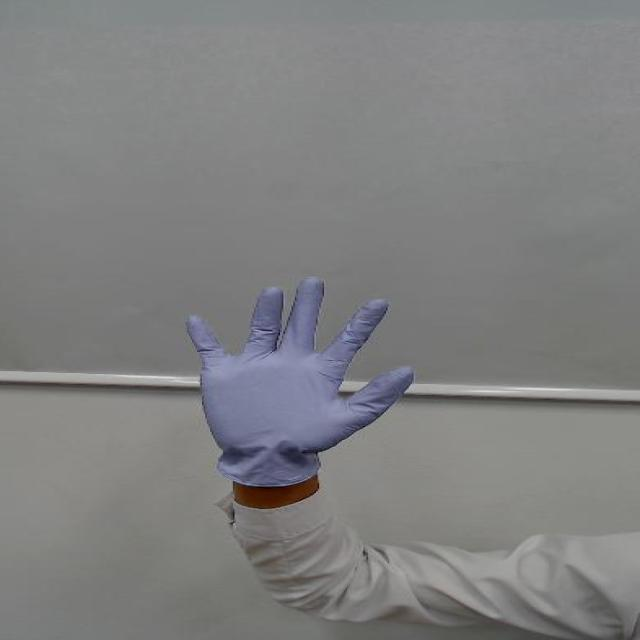glove: (124, 264, 449, 460)
